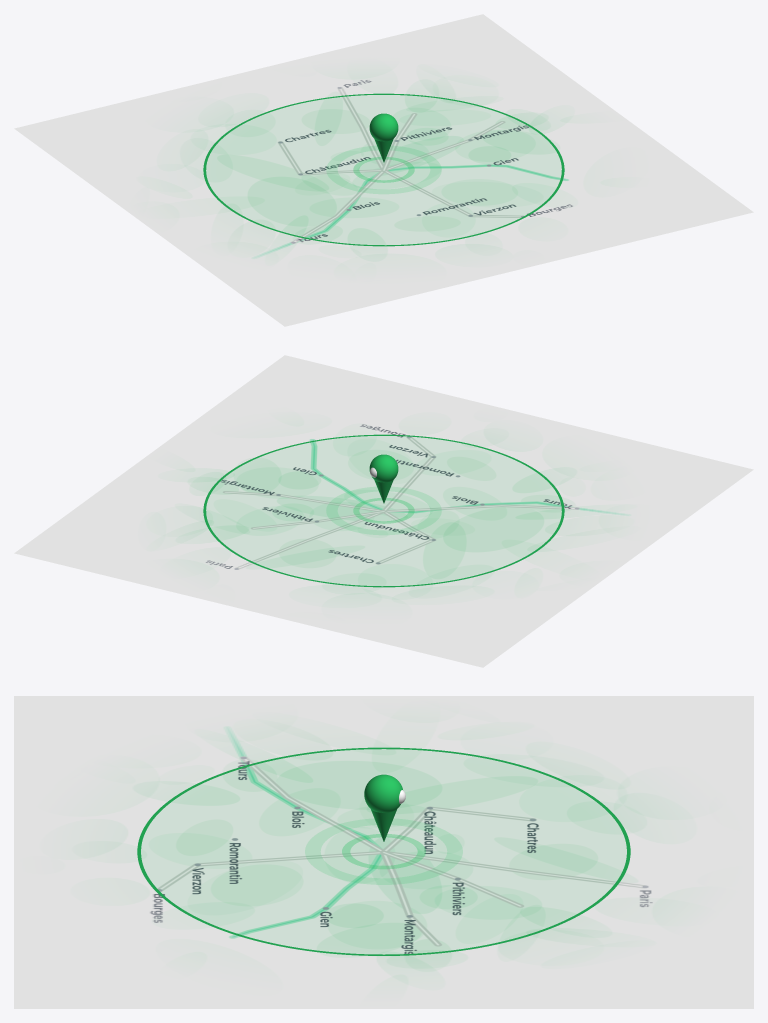
The model's file is 07_carte_orleans_100km.glb.
3 views of the same model, one above another, from view 1: azimuth 30°, elevation 25°; view 2: azimuth 150°, elevation 25°; view 3: azimuth 270°, elevation 25° (orthographic). The views are drawn at different scales.
Parts seen in each view (by area): view 1: Element_1_6, Element_1_8, Element_1_11, Element_1_12; view 2: Element_1_6, Element_1_8, Element_1_11, Element_1_12; view 3: Element_1_6, Element_1_8, Element_1_11, Element_1_12, Element_1_10.
Part boxes in pixels (x1,y1,x2,y2): Element_1_6: [14, 14, 753, 326]; Element_1_8: [203, 93, 564, 246]; Element_1_11: [327, 146, 440, 193]; Element_1_12: [369, 113, 398, 162]; Element_1_6: [14, 355, 753, 667]; Element_1_8: [203, 434, 564, 587]; Element_1_11: [327, 487, 440, 534]; Element_1_12: [369, 454, 398, 503]; Element_1_6: [14, 696, 753, 1008]; Element_1_8: [137, 747, 630, 955]; Element_1_11: [305, 819, 462, 884]; Element_1_12: [364, 774, 405, 841]; Element_1_10: [342, 834, 425, 868].
Size of what is drawn, in the model's own units: 6 by 0.68 by 6.
Materials: 7 (1 with a texture image).
